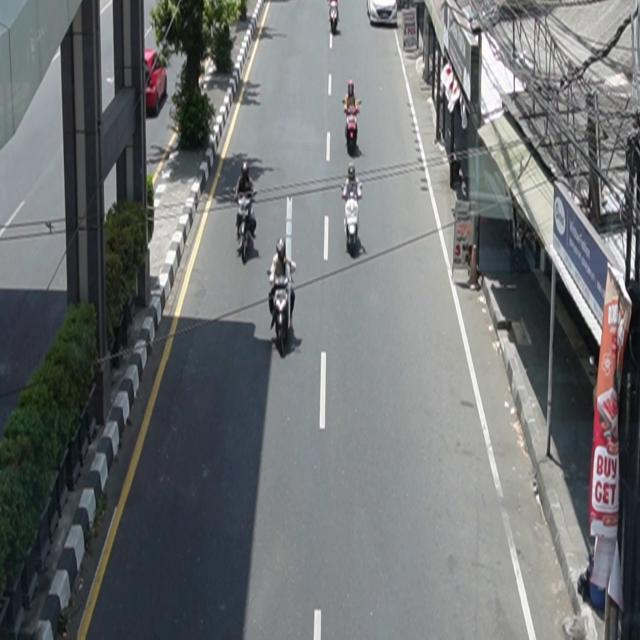car: (145, 49, 168, 115), (367, 1, 398, 26)
